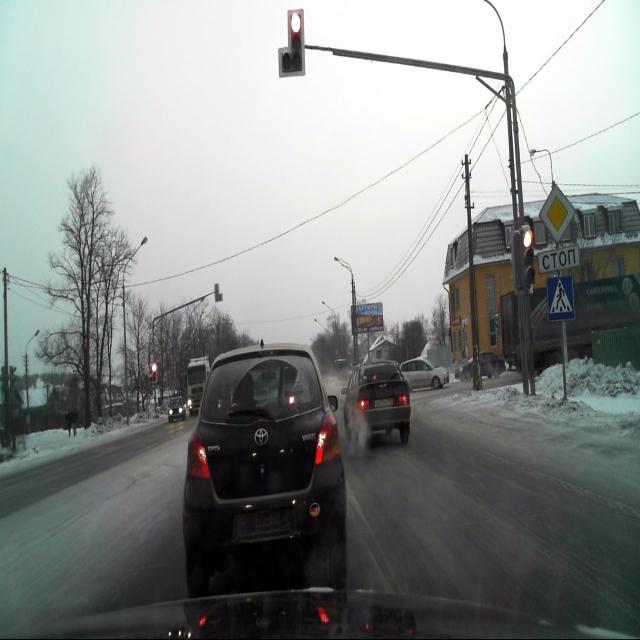object: (558, 322, 568, 402)
road sign: (540, 182, 574, 241), (546, 274, 575, 322), (538, 244, 579, 271)
